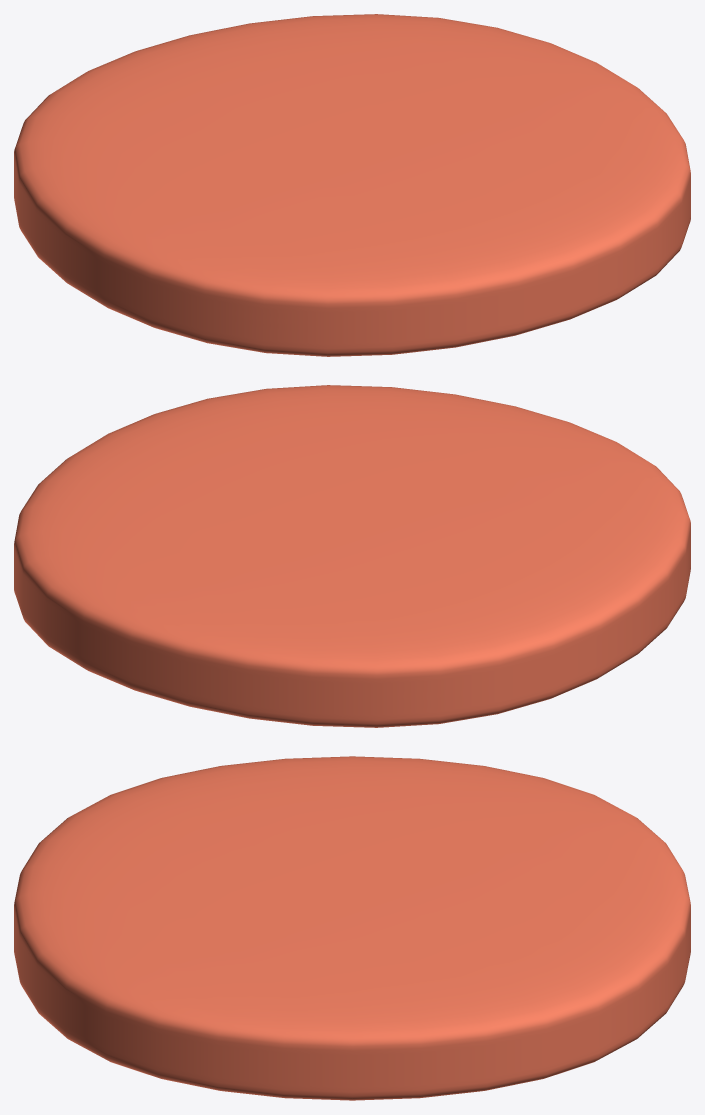
File: steak.glb
3 renders of one model, top to bottom at view 1: azimuth 30°, elevation 25°; view 2: azimuth 150°, elevation 25°; view 3: azimuth 270°, elevation 25°, orthographic. The views are drawn at different scales.
Parts seen in each view (by area): view 1: Cube.006; view 2: Cube.006; view 3: Cube.006.
Part boxes in pixels (left/top/right/bottom): Cube.006: left=14, top=14, right=690, bottom=356; Cube.006: left=14, top=385, right=690, bottom=727; Cube.006: left=14, top=756, right=690, bottom=1100.
Bounding box in the file's own units: 0.8937 × 0.1248 × 0.8937.
